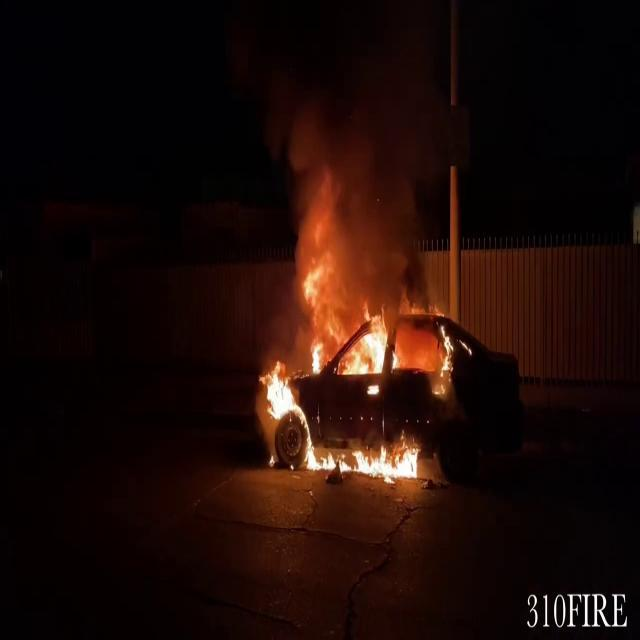Fire: (302, 266, 400, 384), (250, 358, 316, 468), (318, 438, 420, 482), (434, 322, 456, 380)
Smoke: (280, 11, 454, 321)
